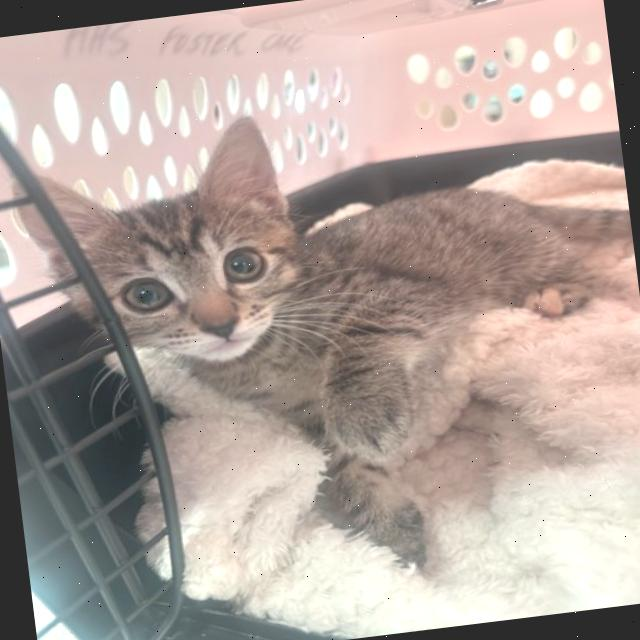domestic_short_hair_cat: (0, 96, 357, 414)
